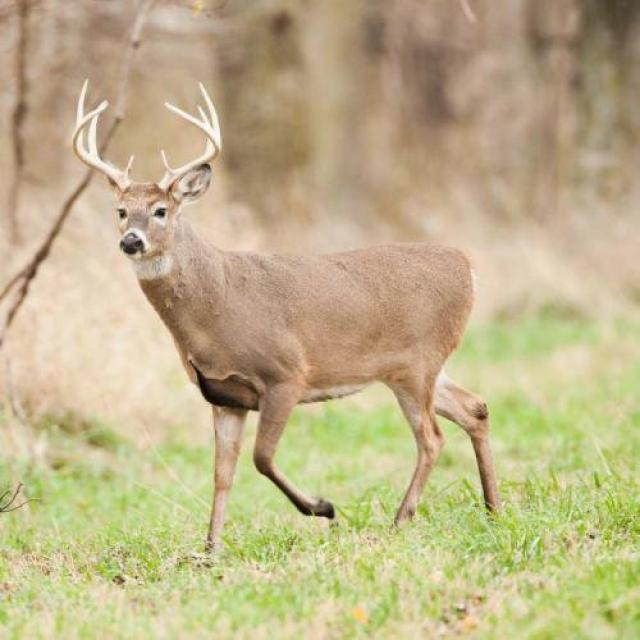deer: (70, 81, 495, 549)
